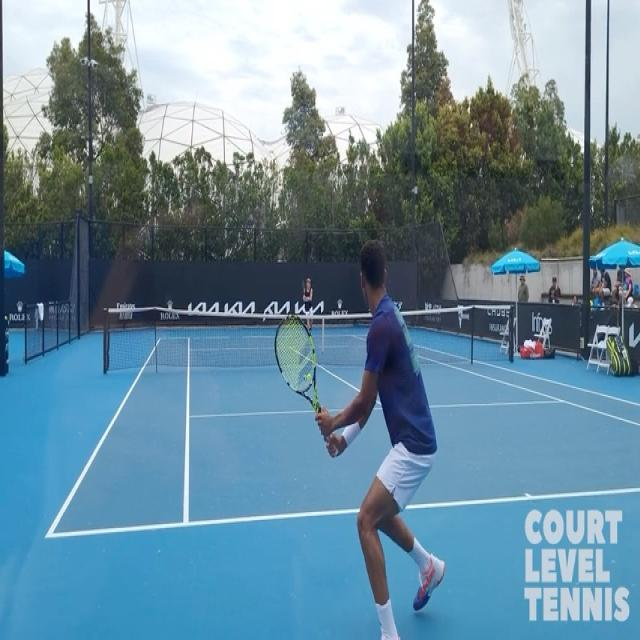backhand-ready: (266, 243, 466, 632)
